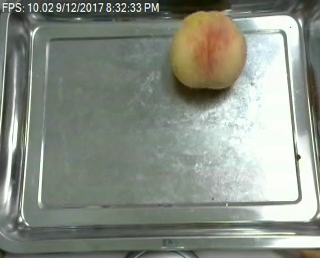Peach: (169, 11, 247, 89)
